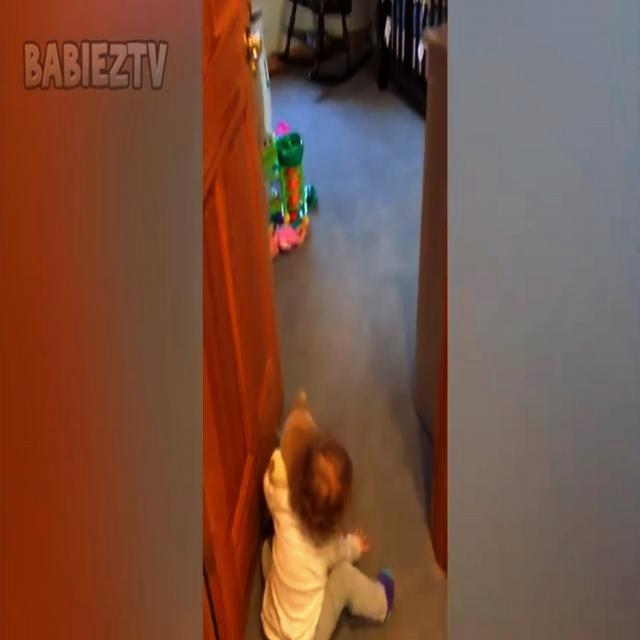child: (261, 429, 395, 640)
